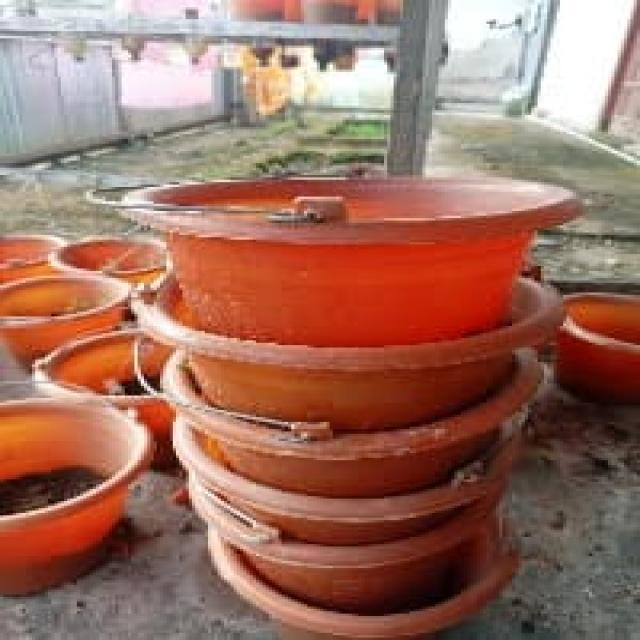HDPE Plastic: (115, 164, 585, 343), (120, 268, 574, 420), (150, 360, 550, 486), (158, 424, 529, 546), (210, 515, 525, 620), (1, 392, 155, 596), (2, 273, 126, 360), (565, 274, 640, 406), (46, 221, 172, 287)
